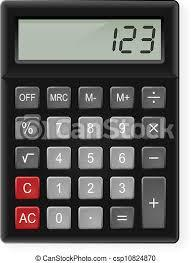Calculator: (1, 0, 181, 245)
